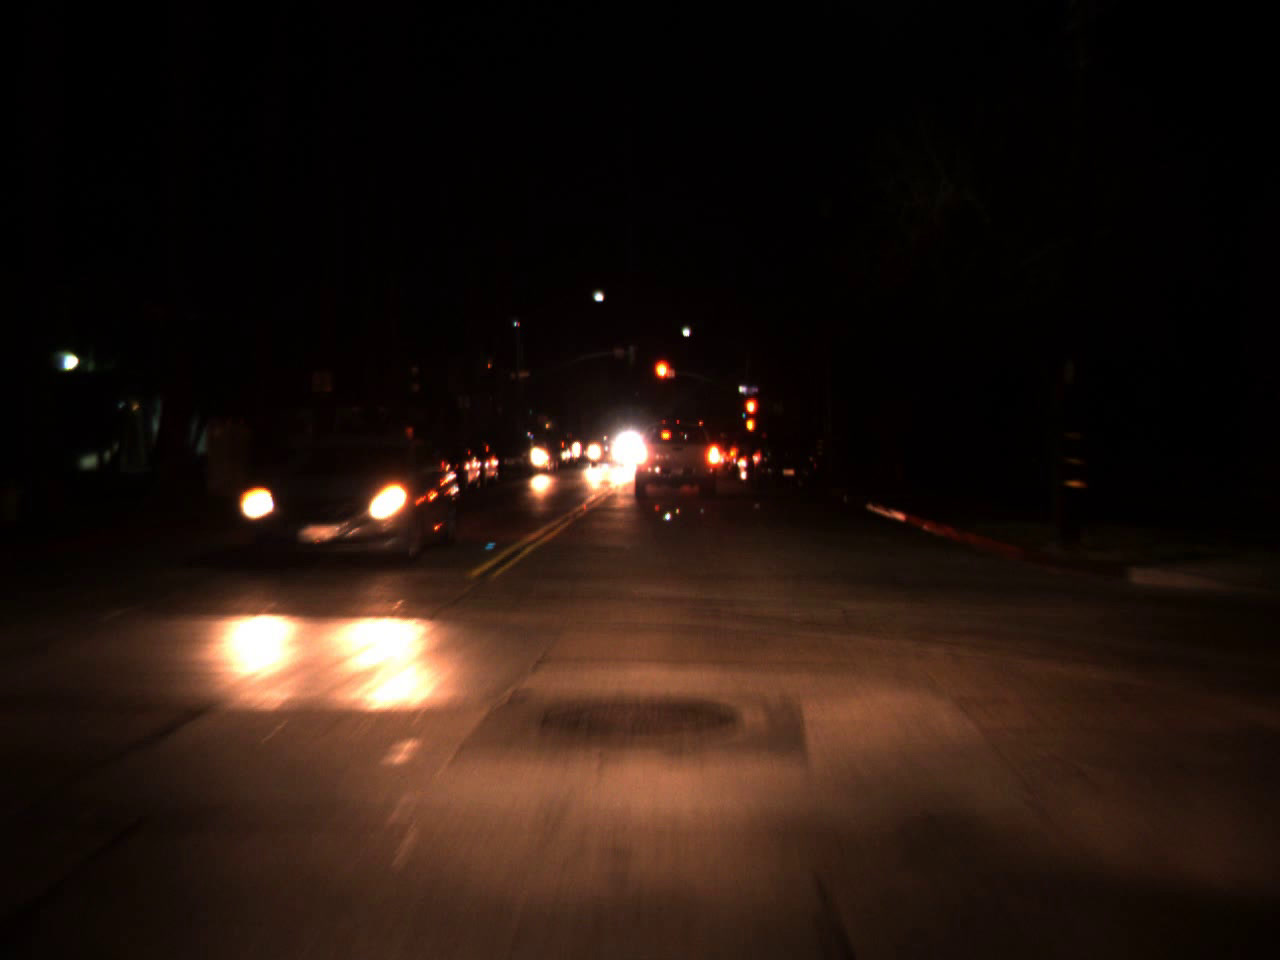stop: (652, 356, 673, 401), (743, 396, 758, 433)
